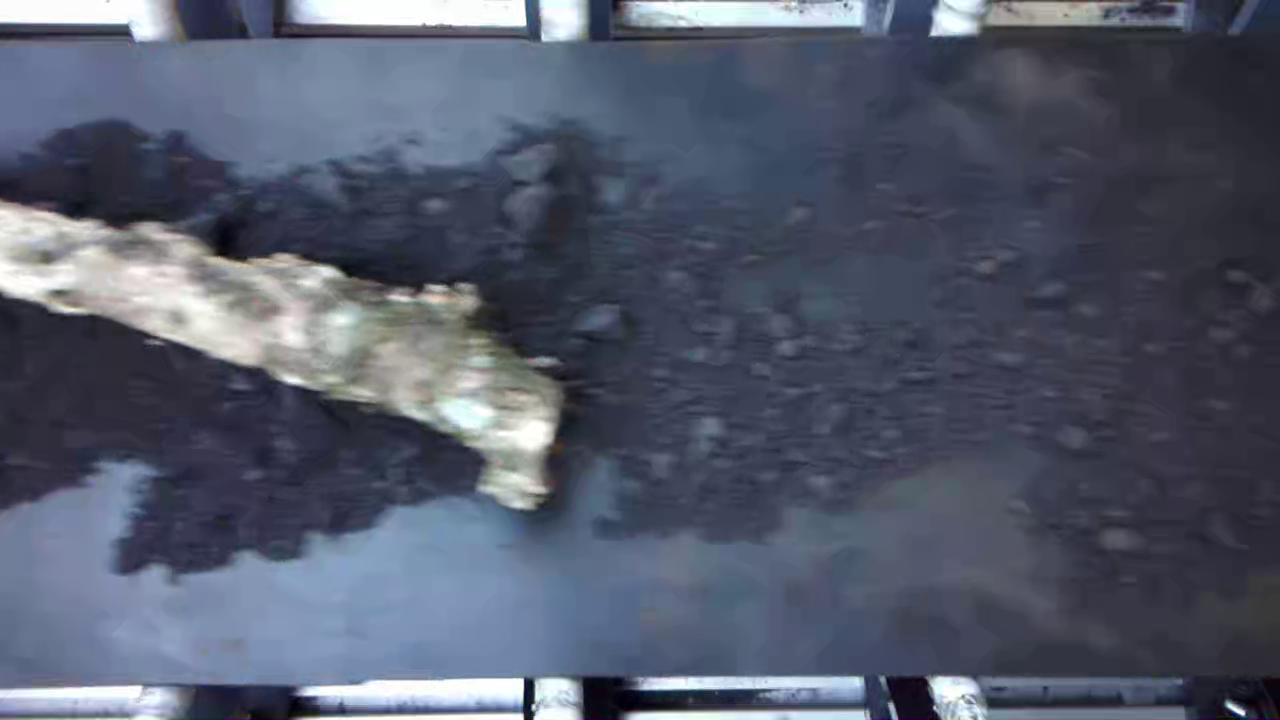conveyor: (1, 59, 1280, 669)
